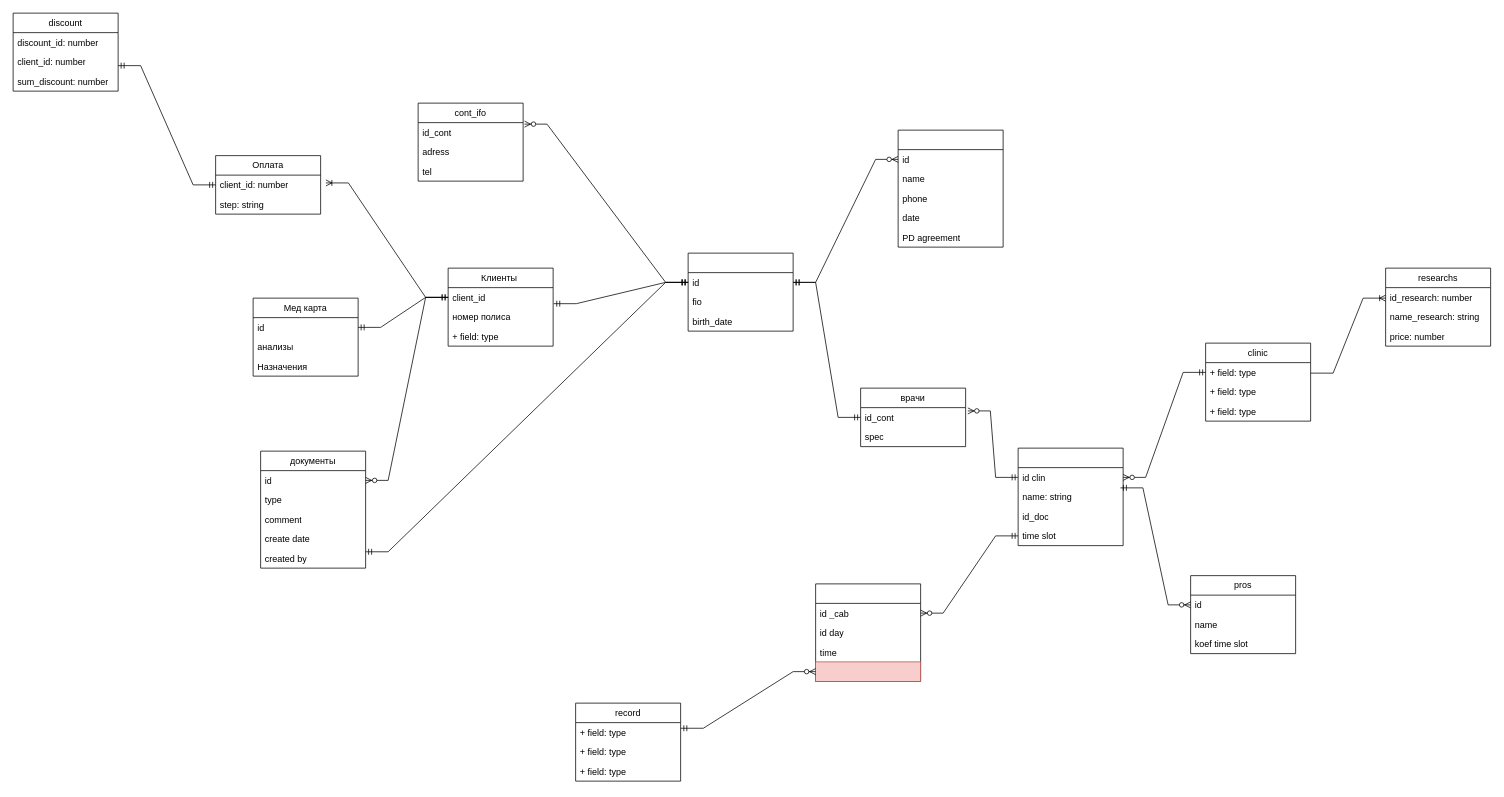
Some shapes in this 1504 by 797 pixel diagram are drawn without their labels. The box of each missing label's shape, as (x1, y1, x2, y2) in pixels:
cabinet: (1017, 447, 1123, 546)
id_record: (815, 661, 921, 681)
lead: (897, 129, 1003, 247)
timesliot: (815, 583, 921, 681)
контакты (ФЛ): (687, 252, 793, 331)
